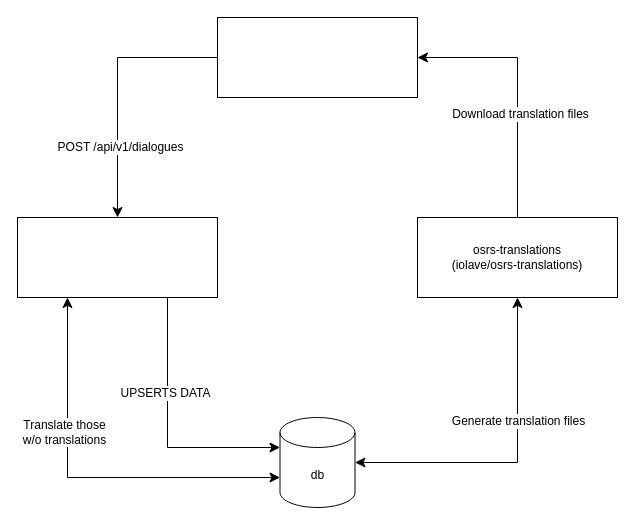
Some shapes in this 635 by 525 pixel diagram are drawn without their labels. The centre of each missing label's shape, as x and y in pixels:
RuneLite (iolave/runelite-the-translator): the point at 317,57
runelite-translator-api (iolave/runelite-translator-api): the point at 117,257
